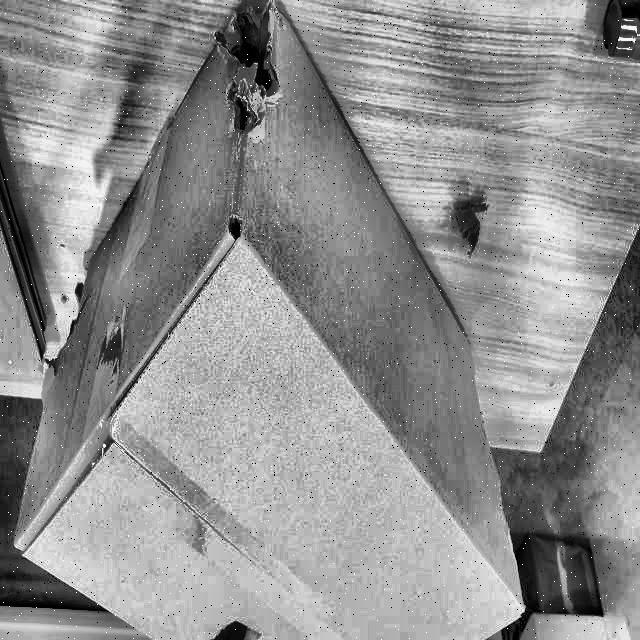box: (4, 1, 542, 640)
hole: (228, 2, 280, 138)
